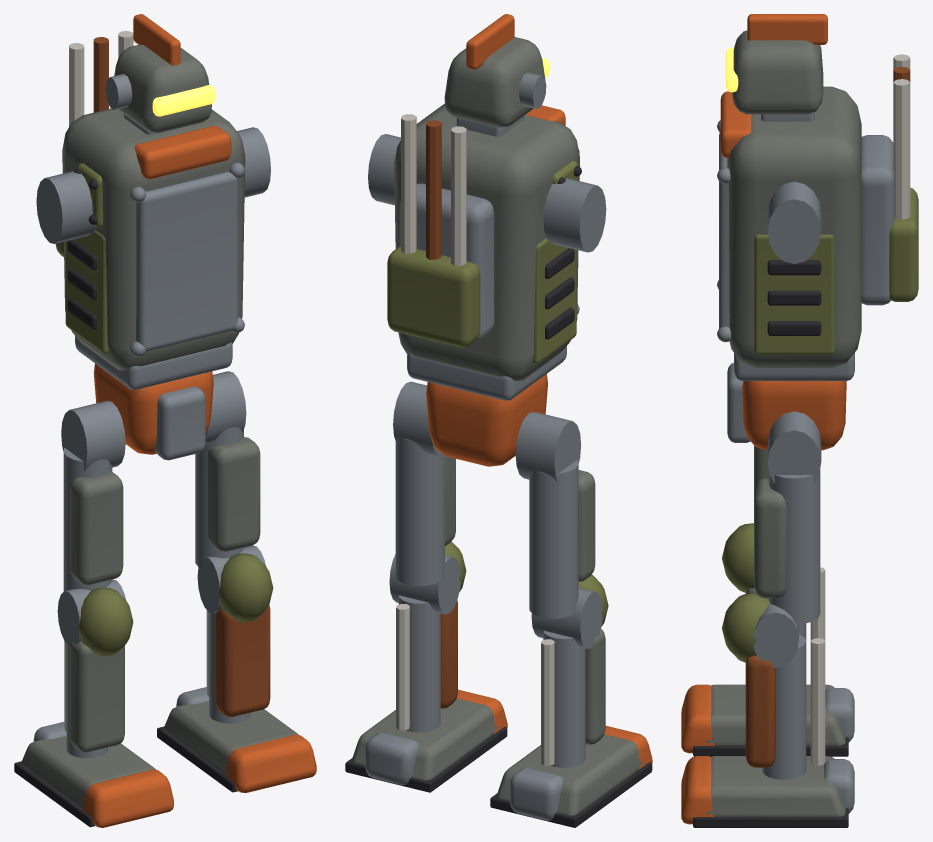
The model's file is ch_lancer.glb.
3 renders of one model, left to right at view 1: azimuth 30°, elevation 25°; view 2: azimuth 150°, elevation 25°; view 3: azimuth 270°, elevation 25°, orthographic. The views are drawn at different scales.
Visible parts, largest first — view 1: ch_lancer, limb_leg_l, limb_leg_r; view 2: ch_lancer, limb_leg_l, limb_leg_r; view 3: ch_lancer, limb_leg_r, limb_leg_l.
Boxes of the visible parts, x1=… form: ch_lancer: x1=36, y1=14, x2=270, y2=460; limb_leg_l: x1=14, y1=400, x2=173, y2=827; limb_leg_r: x1=157, y1=371, x2=316, y2=793; ch_lancer: x1=368, y1=14, x2=606, y2=466; limb_leg_l: x1=490, y1=411, x2=652, y2=827; limb_leg_r: x1=345, y1=381, x2=507, y2=792; ch_lancer: x1=717, y1=14, x2=918, y2=450; limb_leg_r: x1=681, y1=411, x2=854, y2=827; limb_leg_l: x1=681, y1=445, x2=854, y2=756.
Bounding box in the file's own units: 0.2858 × 0.8885 × 0.2525.
